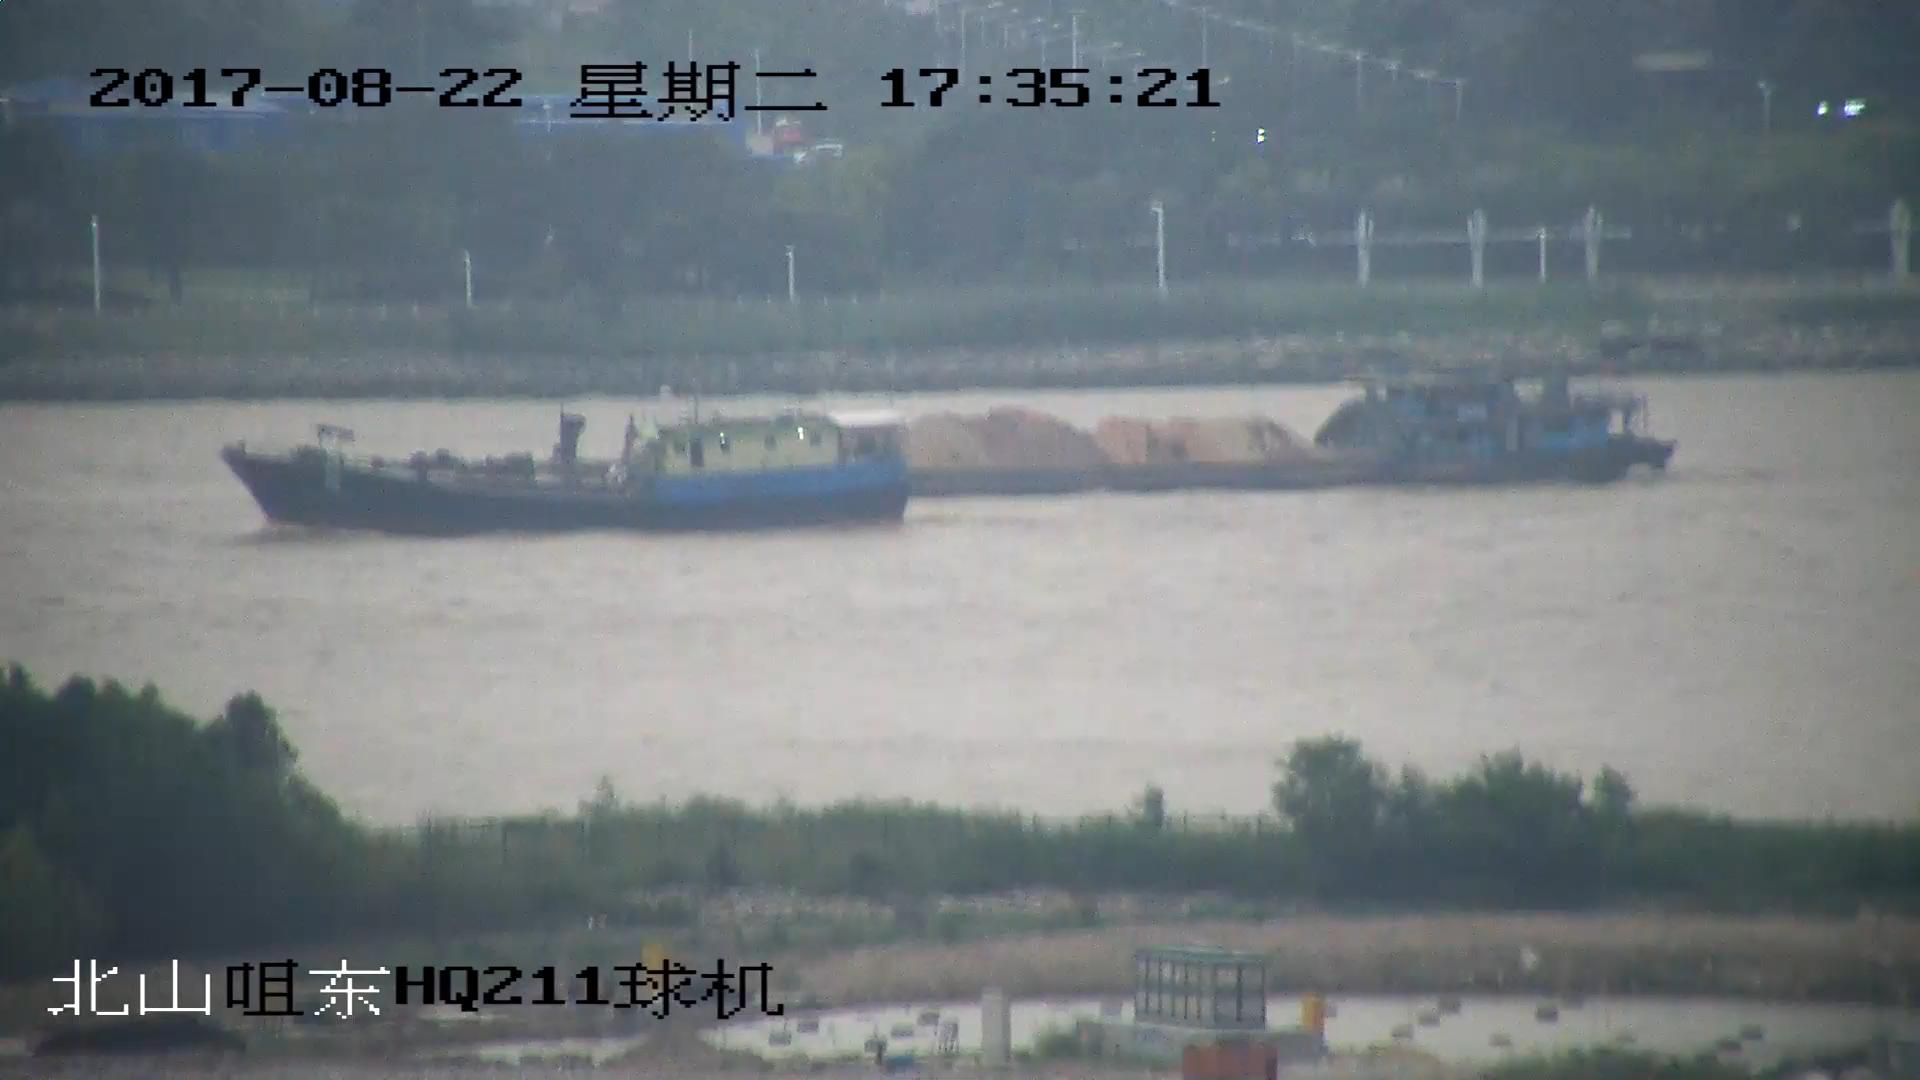Ship: (224, 371, 1673, 500), (225, 389, 911, 531)
